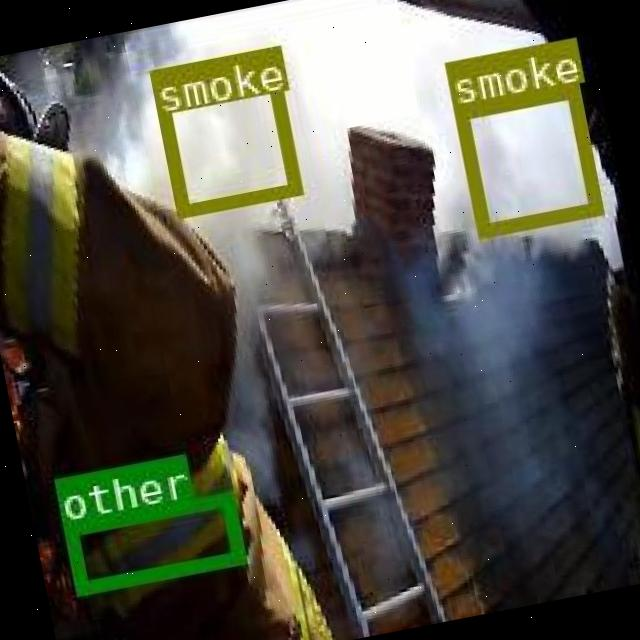smoke: (148, 46, 300, 216), (450, 83, 600, 236)
